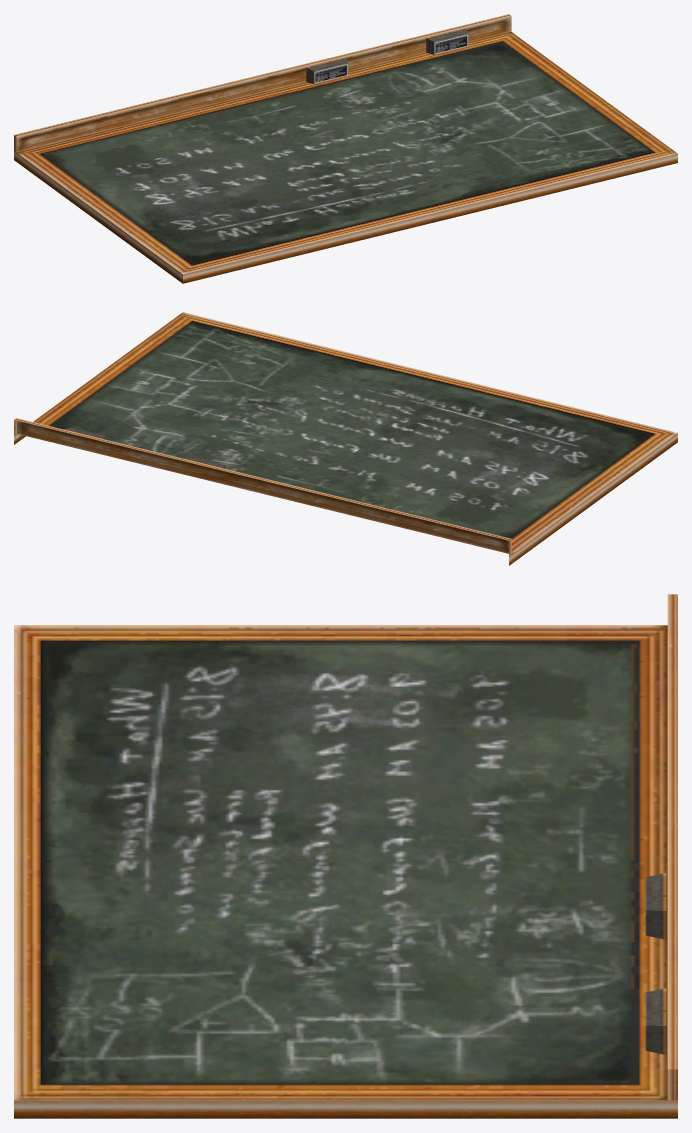
Rendered from chalk_board.fbx.
3 renders of one model, top to bottom at view 1: azimuth 30°, elevation 25°; view 2: azimuth 150°, elevation 25°; view 3: azimuth 270°, elevation 25°, orthographic. The views are drawn at different scales.
Visible parts, largest first — view 1: mesh_0; view 2: mesh_0; view 3: mesh_0.
Boxes of the visible parts, box(x1,y1,x2,y2) form: mesh_0: box(14, 14, 677, 283); mesh_0: box(14, 312, 677, 565); mesh_0: box(14, 594, 677, 1118).
Bounding box in the file's own units: 220 × 10.7 × 130.
Materials: 1 (1 with a texture image).
